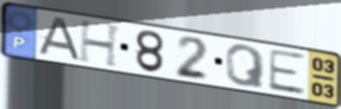2: (174, 35, 212, 82)
8: (133, 28, 166, 74)
A: (33, 16, 84, 63)
E: (266, 47, 308, 97)
H: (77, 18, 124, 69)
Q: (224, 43, 267, 90)
